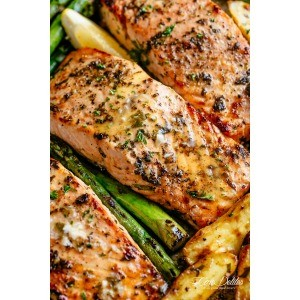salmon_brain food: (67, 99, 234, 181), (55, 238, 224, 294)
